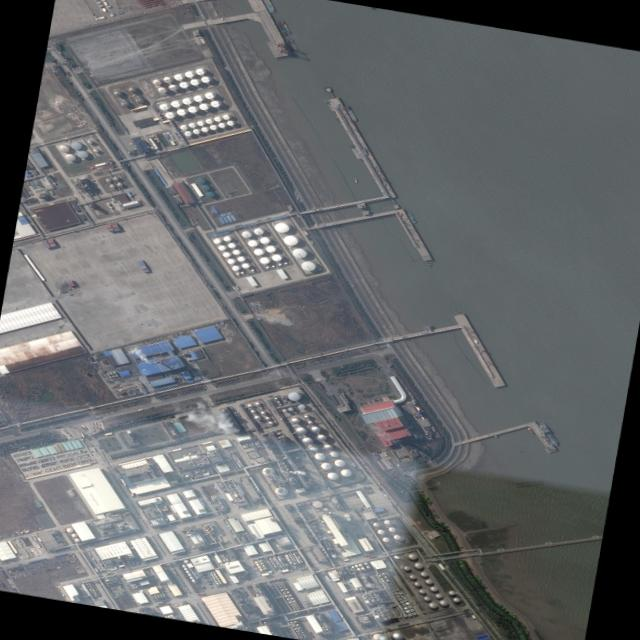ship: (538, 422, 560, 445), (344, 104, 358, 121), (274, 20, 288, 36), (350, 144, 363, 161), (279, 20, 292, 34), (263, 0, 277, 13), (289, 38, 300, 52), (285, 39, 296, 53), (326, 100, 335, 112), (407, 212, 417, 222), (335, 114, 343, 125), (354, 177, 358, 183)
storage-tank: (301, 259, 317, 271), (283, 234, 299, 246), (274, 221, 290, 233), (292, 247, 307, 259), (261, 465, 276, 476), (275, 485, 289, 495), (392, 630, 405, 640), (340, 467, 353, 477), (288, 391, 301, 401), (301, 436, 314, 445), (295, 426, 308, 435), (65, 152, 77, 161), (77, 149, 89, 158), (327, 471, 339, 480), (334, 458, 346, 467), (320, 461, 332, 470), (314, 451, 326, 460), (312, 499, 323, 508), (58, 144, 70, 152), (71, 141, 82, 149), (259, 256, 270, 264), (271, 253, 282, 261), (265, 244, 276, 252), (253, 247, 264, 255), (247, 239, 258, 247), (259, 236, 270, 244), (253, 227, 264, 235), (241, 230, 252, 238), (187, 105, 198, 113), (170, 99, 181, 107), (198, 102, 209, 110), (379, 633, 391, 640), (179, 80, 189, 88), (184, 70, 194, 78), (195, 67, 205, 75), (159, 102, 169, 110), (193, 94, 203, 102), (210, 99, 220, 107), (204, 91, 214, 99), (113, 89, 123, 97), (317, 433, 327, 441), (311, 425, 321, 433), (173, 73, 184, 80), (176, 108, 187, 115), (181, 97, 192, 104), (323, 443, 334, 450), (163, 75, 172, 83), (330, 449, 339, 457), (439, 598, 449, 605), (428, 601, 438, 608), (414, 561, 424, 568), (168, 83, 178, 90), (190, 78, 200, 85), (200, 75, 210, 82), (152, 78, 162, 85), (157, 86, 167, 93), (165, 111, 175, 118), (120, 100, 130, 107), (134, 96, 144, 103), (408, 552, 418, 559), (206, 190, 215, 197), (128, 86, 137, 93), (425, 577, 433, 584), (197, 119, 205, 126), (218, 121, 226, 128), (420, 570, 429, 576), (197, 177, 206, 183), (201, 184, 210, 190), (237, 255, 246, 261), (232, 249, 241, 255), (222, 251, 231, 257), (213, 237, 222, 243), (223, 235, 232, 241), (188, 122, 197, 128), (209, 124, 218, 130), (213, 115, 222, 121), (226, 119, 235, 125), (241, 262, 250, 268), (377, 528, 386, 534), (291, 417, 300, 423), (453, 596, 461, 602), (448, 589, 456, 595), (435, 592, 443, 598), (430, 585, 438, 591), (409, 573, 417, 579), (184, 130, 192, 136), (227, 258, 235, 264), (218, 244, 226, 250), (228, 242, 236, 248), (193, 128, 201, 134), (180, 123, 188, 129), (201, 126, 209, 132), (205, 117, 213, 123), (222, 113, 230, 119), (393, 533, 401, 539), (382, 536, 390, 542), (388, 525, 396, 531), (298, 403, 306, 409), (231, 265, 240, 270), (254, 414, 261, 420), (66, 527, 74, 532), (419, 588, 427, 593), (414, 581, 422, 586), (74, 537, 81, 542), (424, 595, 431, 600), (404, 565, 411, 570), (384, 519, 391, 524), (373, 521, 380, 526), (71, 532, 77, 537), (87, 139, 93, 144), (93, 148, 99, 153), (260, 410, 266, 415), (304, 414, 310, 419), (288, 406, 294, 411), (268, 420, 274, 425), (112, 176, 119, 180), (427, 430, 434, 434), (307, 420, 314, 424), (110, 183, 115, 188), (117, 182, 123, 186), (105, 178, 111, 182), (344, 513, 350, 517), (255, 401, 261, 405), (425, 426, 431, 430), (250, 409, 256, 413), (265, 416, 271, 420), (332, 553, 337, 557), (412, 611, 417, 615), (327, 529, 332, 533), (327, 546, 332, 550), (247, 403, 252, 407), (282, 408, 287, 412), (408, 612, 412, 616), (358, 562, 362, 566), (394, 554, 398, 558), (191, 578, 196, 581), (403, 613, 408, 616), (366, 565, 371, 568), (416, 410, 421, 413), (259, 567, 263, 570), (262, 563, 266, 566), (289, 560, 293, 563), (408, 604, 412, 607), (406, 601, 410, 604), (400, 600, 404, 603), (398, 597, 402, 600), (396, 594, 400, 597), (386, 578, 390, 581), (394, 591, 398, 594), (402, 603, 406, 606), (404, 606, 408, 609), (406, 609, 410, 612), (410, 608, 414, 611), (364, 561, 368, 564), (361, 566, 365, 569), (357, 567, 361, 570), (354, 563, 358, 566), (284, 261, 288, 264), (278, 262, 282, 265), (282, 397, 286, 400), (106, 372, 110, 375), (419, 414, 423, 417), (277, 400, 281, 403), (274, 396, 278, 399), (168, 614, 171, 617), (186, 569, 189, 572), (264, 566, 267, 569), (261, 561, 264, 564), (271, 559, 274, 562), (279, 559, 282, 562), (278, 557, 281, 560), (277, 555, 280, 558), (392, 588, 395, 591), (292, 624, 295, 627), (293, 599, 296, 602), (289, 600, 292, 603), (291, 596, 294, 599), (287, 597, 290, 600), (289, 593, 292, 596), (285, 594, 288, 597), (287, 590, 290, 593), (283, 591, 286, 594), (285, 587, 288, 590), (281, 588, 284, 591), (107, 202, 110, 205), (109, 205, 112, 208), (206, 528, 209, 531), (251, 268, 254, 271), (272, 264, 275, 267), (279, 402, 282, 405), (170, 614, 174, 616), (190, 576, 194, 578), (188, 573, 192, 575), (182, 564, 186, 566), (286, 556, 290, 558), (256, 563, 260, 565), (254, 560, 258, 562), (384, 575, 388, 577), (378, 574, 382, 576), (382, 572, 386, 574), (298, 626, 302, 628), (296, 623, 300, 625), (321, 520, 325, 522), (259, 406, 263, 408), (108, 375, 112, 377), (236, 272, 240, 274), (215, 580, 218, 582), (216, 582, 219, 584), (219, 581, 222, 583), (218, 579, 221, 581), (215, 575, 218, 577), (212, 575, 215, 577), (223, 559, 226, 561), (91, 587, 94, 589), (157, 595, 160, 597), (156, 593, 159, 595), (172, 616, 175, 618), (165, 615, 168, 617), (184, 567, 187, 569), (94, 592, 97, 594), (293, 562, 296, 564), (292, 552, 295, 554), (300, 560, 303, 562), (299, 558, 302, 560), (298, 556, 301, 558), (295, 551, 298, 553), (285, 554, 288, 556), (258, 565, 261, 567), (259, 559, 262, 561), (274, 564, 277, 566), (272, 562, 275, 564), (269, 557, 272, 559), (288, 558, 291, 560), (276, 581, 279, 583), (396, 588, 399, 590), (382, 579, 385, 581), (381, 577, 384, 579), (296, 630, 299, 632), (290, 621, 293, 623), (293, 607, 296, 609), (296, 604, 299, 606), (295, 602, 298, 604), (283, 585, 286, 587), (294, 627, 297, 629), (297, 632, 300, 634), (390, 581, 393, 583), (351, 565, 354, 567), (360, 587, 363, 589), (355, 587, 358, 589), (326, 627, 329, 629), (323, 628, 326, 630), (322, 626, 325, 628), (300, 629, 303, 631), (294, 620, 297, 622), (28, 174, 31, 176), (35, 171, 38, 173), (33, 169, 36, 171), (31, 165, 34, 167), (53, 182, 56, 184), (211, 496, 214, 498), (211, 527, 214, 529), (209, 525, 212, 527), (115, 374, 118, 376), (113, 371, 116, 373), (112, 375, 115, 377), (110, 372, 113, 374), (241, 271, 244, 273), (266, 266, 269, 268), (86, 582, 88, 584), (214, 578, 216, 580), (217, 577, 219, 579), (214, 573, 216, 575), (226, 558, 228, 560), (224, 557, 226, 559), (89, 588, 91, 590), (90, 589, 92, 591), (162, 592, 164, 594), (154, 594, 156, 596), (93, 589, 95, 591), (296, 557, 298, 559), (294, 554, 296, 556), (165, 506, 167, 508), (276, 562, 278, 564), (281, 581, 283, 583), (404, 599, 406, 601), (406, 598, 408, 600), (404, 596, 406, 598), (402, 596, 404, 598), (401, 594, 403, 596), (395, 586, 397, 588), (298, 606, 300, 608), (292, 605, 294, 607), (291, 603, 293, 605), (282, 583, 284, 585), (299, 634, 301, 636), (350, 567, 352, 569), (304, 635, 306, 637), (303, 633, 305, 635), (302, 631, 304, 633), (300, 636, 302, 638), (212, 538, 214, 540), (28, 160, 30, 162), (30, 163, 32, 165), (27, 159, 29, 161), (213, 494, 215, 496), (241, 464, 243, 466), (328, 542, 330, 544), (329, 544, 331, 546), (208, 531, 210, 533), (210, 529, 212, 531), (207, 527, 209, 529), (205, 523, 207, 525), (238, 463, 240, 465), (239, 461, 241, 463), (237, 458, 239, 460), (213, 572, 216, 573), (90, 586, 93, 587), (159, 593, 162, 594), (298, 561, 301, 562), (163, 509, 166, 510), (279, 586, 282, 587), (240, 463, 243, 464), (338, 547, 341, 548), (90, 584, 91, 586), (89, 583, 91, 584), (87, 585, 89, 586), (211, 537, 213, 538), (211, 574, 213, 575), (222, 558, 224, 559), (160, 595, 162, 596), (155, 596, 157, 597), (94, 591, 96, 592), (91, 591, 93, 592), (223, 556, 225, 557), (223, 555, 225, 556), (222, 554, 224, 555), (291, 558, 293, 559), (290, 556, 292, 557), (289, 555, 291, 556), (288, 553, 290, 554), (297, 559, 299, 560), (295, 556, 297, 557), (298, 555, 299, 557), (331, 552, 333, 553), (164, 505, 166, 506), (292, 559, 294, 560), (275, 561, 277, 562), (274, 558, 275, 560), (272, 557, 274, 558), (163, 594, 165, 595), (403, 598, 405, 599), (400, 593, 402, 594), (399, 592, 401, 593), (394, 585, 396, 586), (278, 584, 280, 585), (215, 537, 216, 539), (29, 162, 31, 163), (327, 541, 329, 542), (214, 496, 216, 497), (210, 495, 212, 496), (239, 465, 241, 466), (210, 535, 212, 536), (209, 534, 211, 535), (203, 524, 205, 525), (207, 523, 209, 524), (237, 462, 239, 463), (238, 460, 240, 461), (236, 461, 238, 462), (236, 457, 238, 458), (235, 455, 237, 456), (235, 459, 237, 460), (234, 457, 236, 458), (233, 456, 235, 457), (166, 508, 167, 509), (275, 560, 276, 561), (402, 592, 403, 593), (214, 536, 215, 537)
